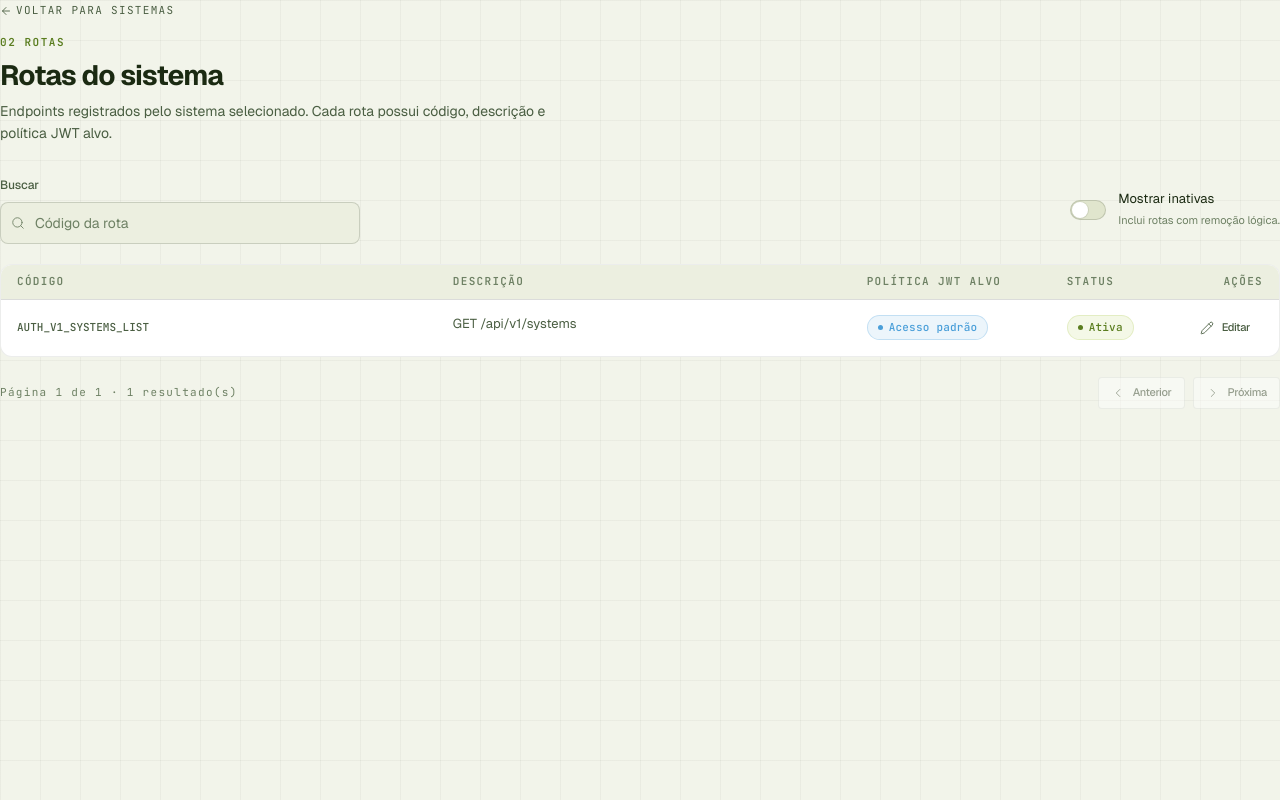
RoutesPage — edição (Issue #64) › abertura e pré-preenchimento do modal › fechar via botão Cancelar não dispara PUT
This screenshot has width=1280, height=800.
Click the button "Editar" at point(1225, 328), box [1187,312,1263,344]
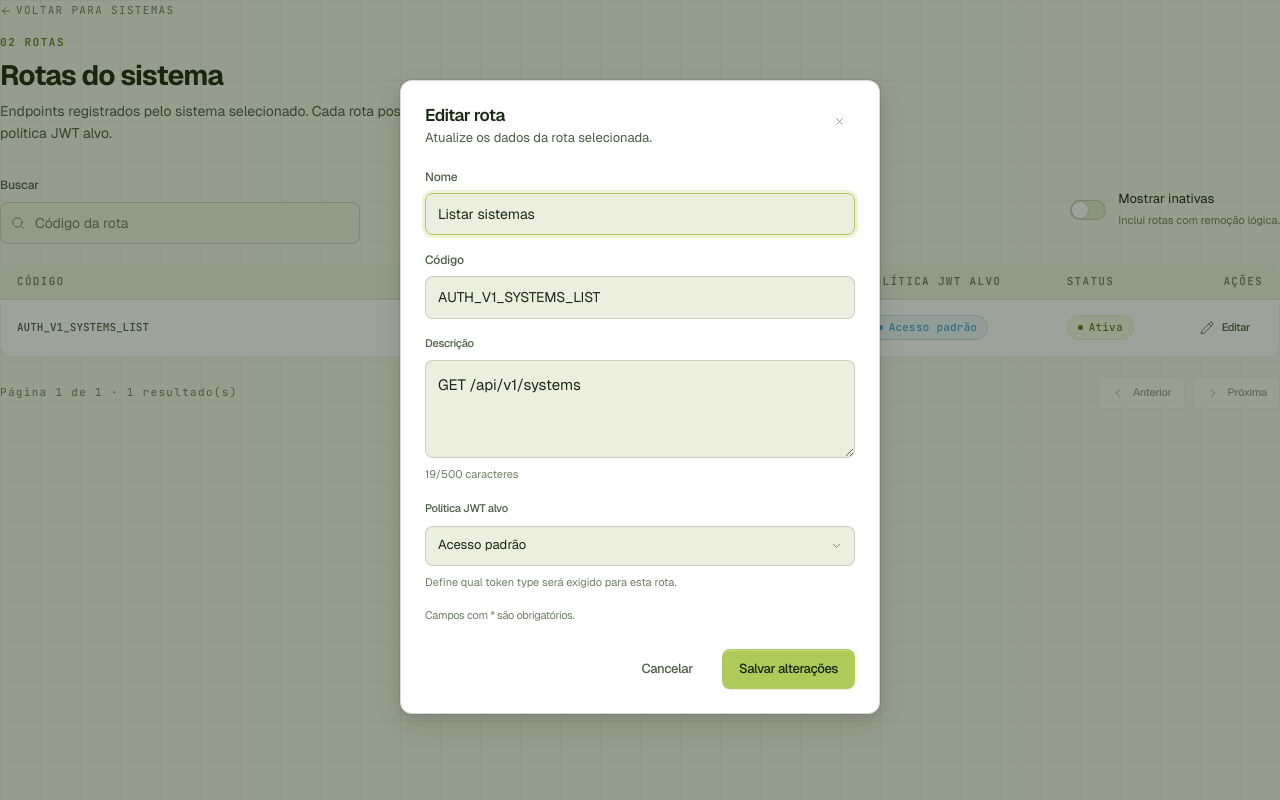
expect the form with test id "edit-route-form" is shown: met, box [425,168,855,689]
expect the dialog is shown: met, box [400,80,880,714]
Click the button with test id "edit-route-cancel" at point(667, 669), box [624,649,710,689]
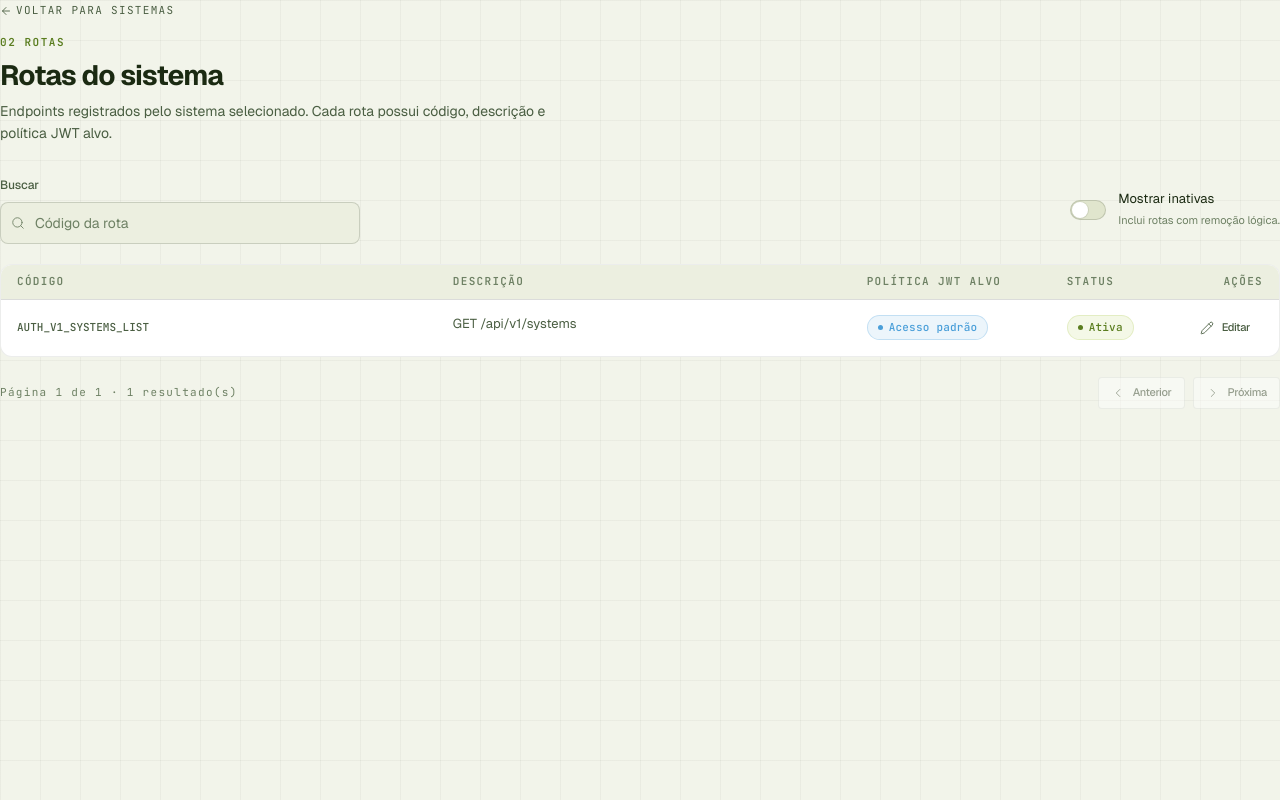
expect the dialog is gone: met
